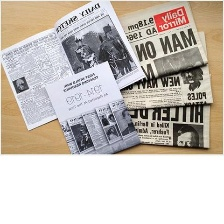news_paper: (0, 0, 150, 132), (42, 58, 143, 156), (112, 25, 216, 111), (107, 0, 212, 85), (119, 85, 215, 153)
